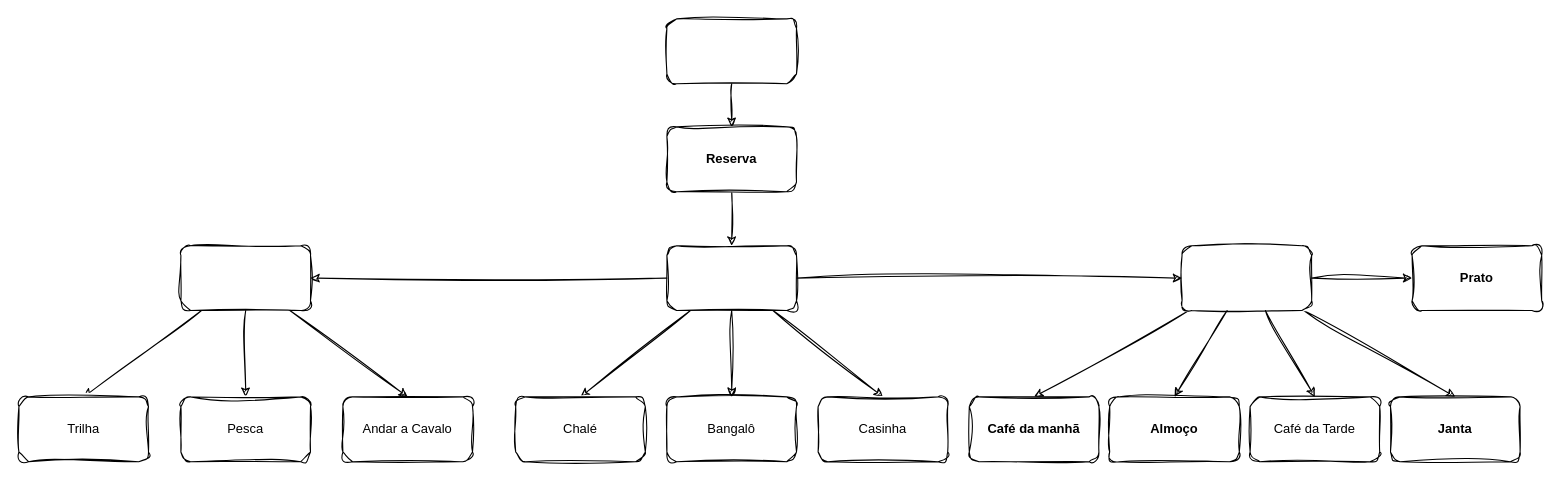
This 1561x481 diagram has some shape labels left out. Here are the shapes that lost their labels. From the top down, the centre of each, then its label:
pixel 731 51: Hóspede
pixel 245 277: AtividadeLazer
pixel 731 277: Pousada
pixel 1246 277: Alimentação
